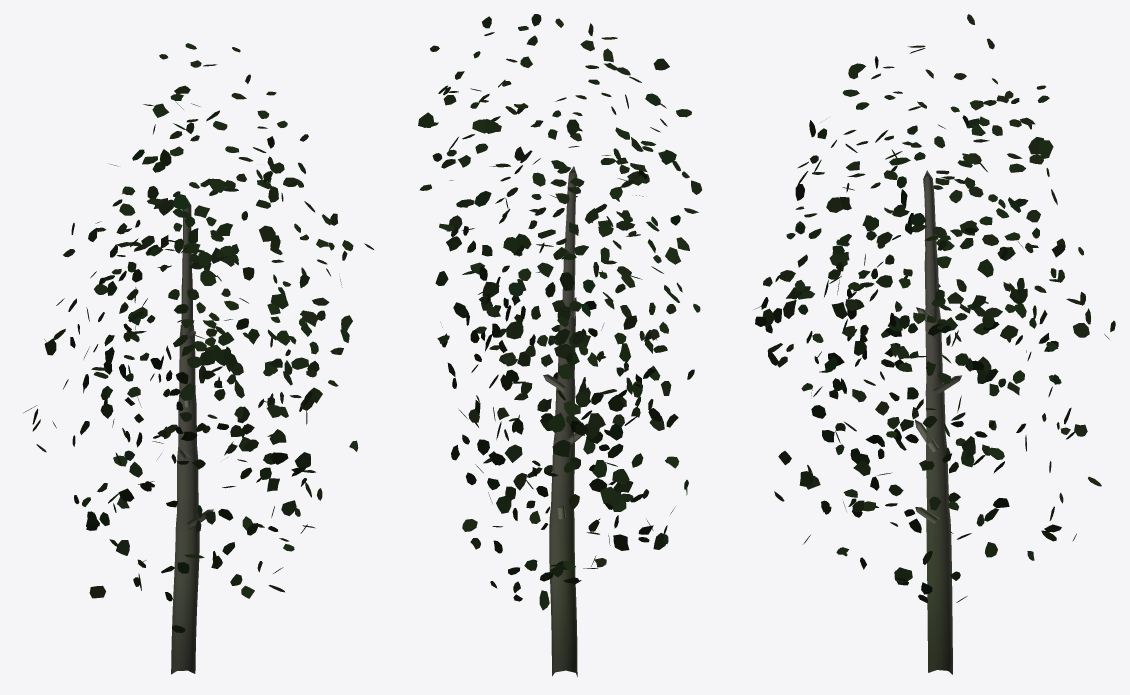
File: SM_TreeFar_holly_1.glb
3 views of the same model, side by side, from view 1: azimuth 30°, elevation 25°; view 2: azimuth 150°, elevation 25°; view 3: azimuth 270°, elevation 25° (orthographic). The views are drawn at different scales.
Visible parts, largest first — view 1: SM_TreeFar_holly_1; view 2: SM_TreeFar_holly_1; view 3: SM_TreeFar_holly_1.
Boxes of the visible parts, x1=… form: SM_TreeFar_holly_1: x1=23, y1=43, x2=373, y2=674; SM_TreeFar_holly_1: x1=418, y1=14, x2=702, y2=676; SM_TreeFar_holly_1: x1=754, y1=14, x2=1115, y2=674.
Size of the model in its own units: 3.61 by 8.45 by 4.29.
